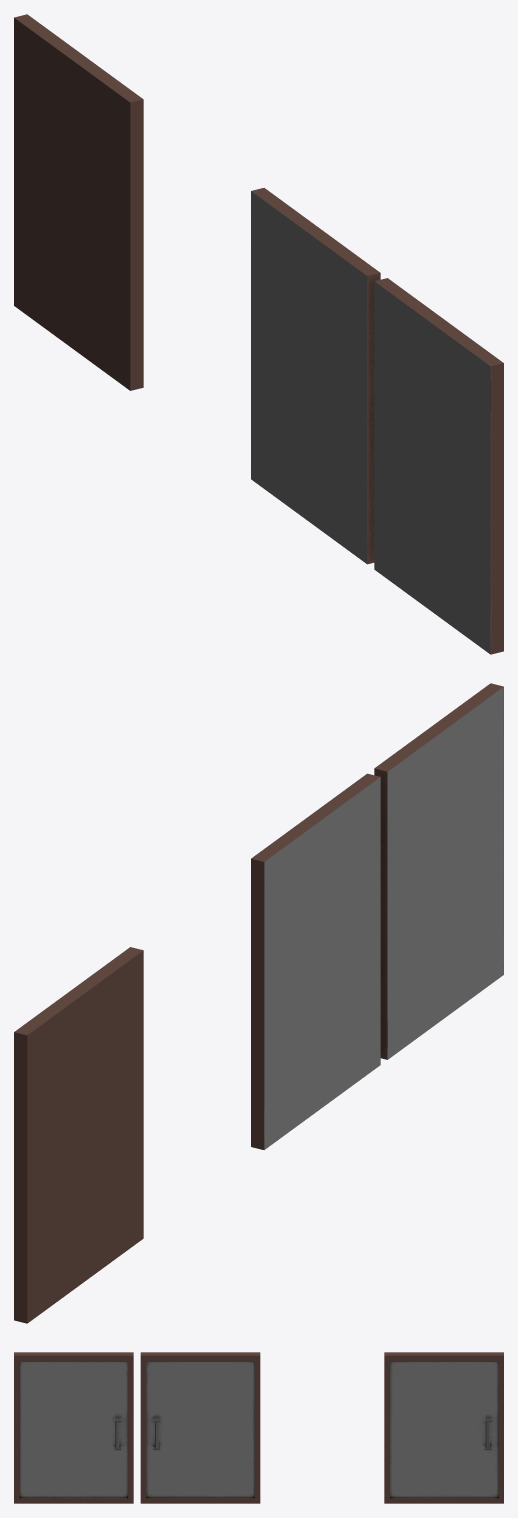
The model's file is UppershelfDoor.fbx.
3 renders of one model, top to bottom at view 1: azimuth 30°, elevation 25°; view 2: azimuth 150°, elevation 25°; view 3: azimuth 270°, elevation 25°, orthographic. The views are drawn at different scales.
Parts seen in each view (by area): view 1: polySurface49; view 2: polySurface49; view 3: polySurface49.
Part boxes in pixels (<box>): polySurface49: <box>14,14,503,654</box>; polySurface49: <box>14,683,503,1323</box>; polySurface49: <box>14,1352,503,1503</box>.
Bounding box in the file's own units: 1.79 × 22.12 × 66.28.
Materials: 3 (3 with a texture image).
